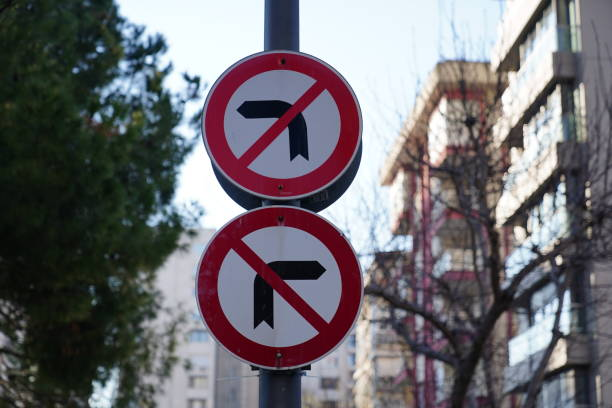saga_girilmez: (182, 203, 377, 379)
sola_girilmez: (203, 49, 361, 197)
